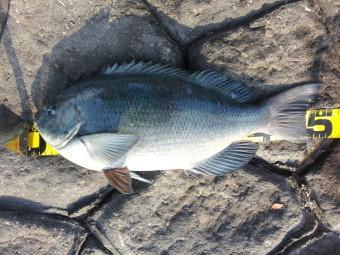fish: (34, 57, 323, 194)
